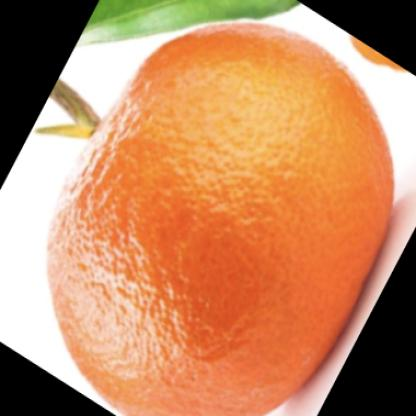fresh: (50, 20, 392, 416)
